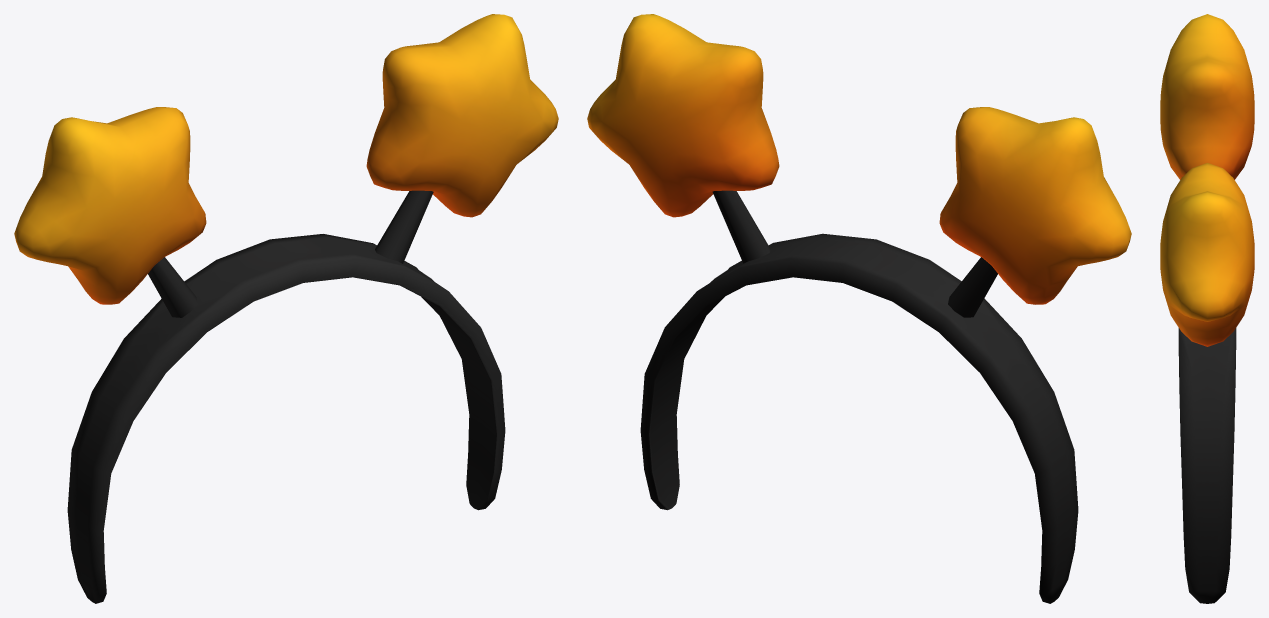
3 views of the same model, side by side, from view 1: azimuth 30°, elevation 25°; view 2: azimuth 150°, elevation 25°; view 3: azimuth 270°, elevation 25° (orthographic). The views are drawn at different scales.
Visible parts, largest first — view 1: model_33; view 2: model_33; view 3: model_33.
Boxes of the visible parts, x1,y1,x2,y2 form: model_33: (14, 14, 558, 603); model_33: (587, 14, 1131, 603); model_33: (1160, 14, 1254, 603).
Bounding box in the file's own units: 1.01 × 0.8706 × 0.1789.
1 material, 1 textured.
